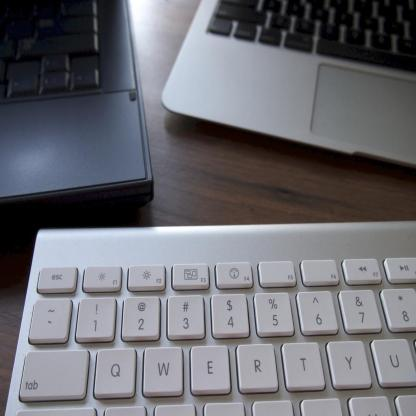board: (161, 0, 416, 169), (0, 0, 154, 218)
